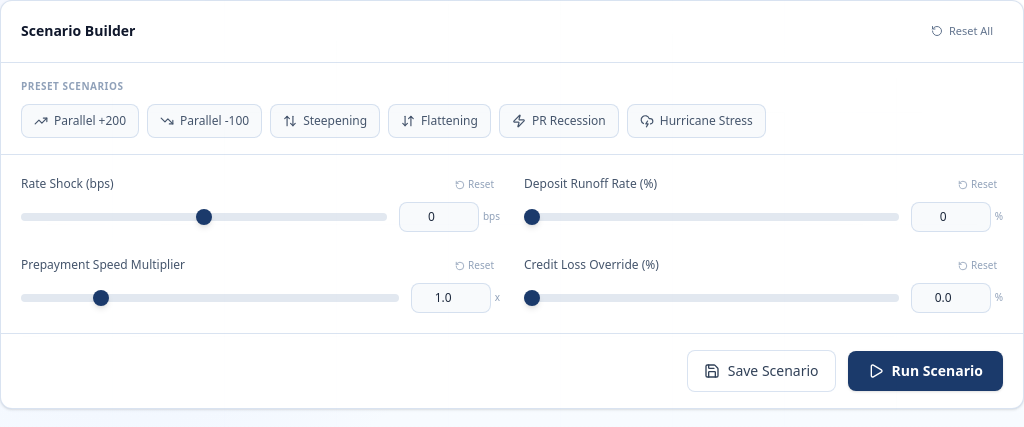
Scenario: ScenarioInput › preset buttons set correct values › clicking "Parallel +200" sets rate shock to 200
What coordinates should you click on to do the following:
click the button with test id "preset-parallel_up_200"
I would click on:
 (80, 120)
Its box is left=21, top=104, right=139, bottom=138.
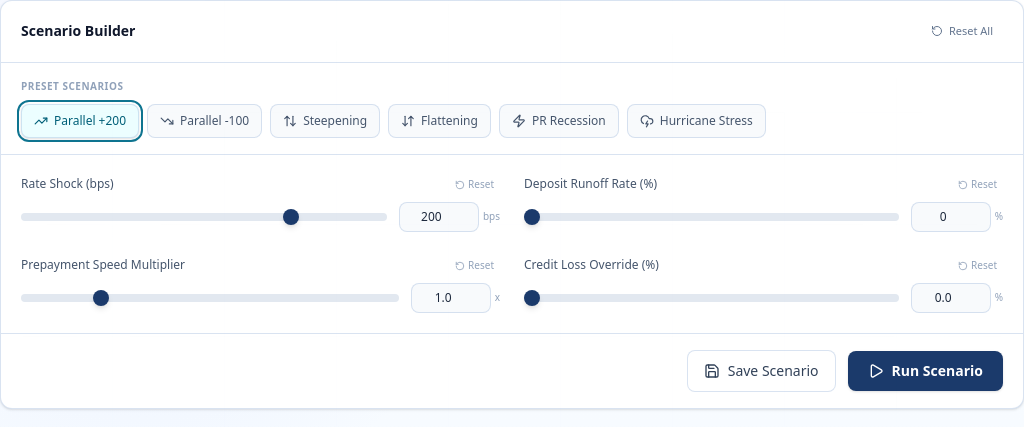
Result: the slider named "rate shock" holds "200" at left=21, top=212, right=387, bottom=220
